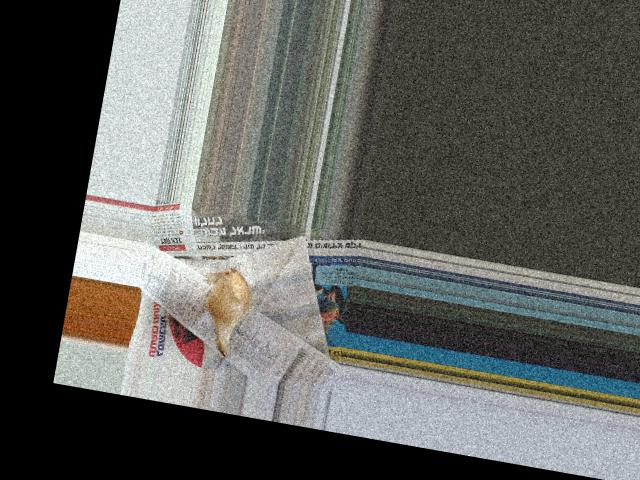onion: (201, 272, 256, 333)
